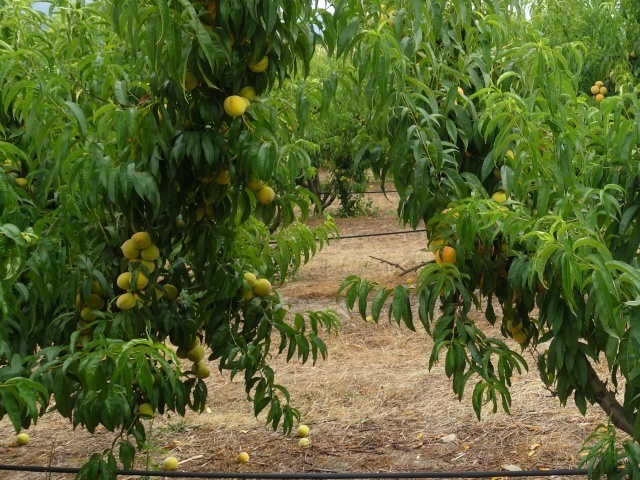peach: (219, 92, 249, 120), (113, 234, 139, 262), (433, 243, 459, 271), (129, 226, 154, 252), (244, 52, 272, 75), (131, 400, 158, 423), (512, 323, 535, 347), (114, 289, 137, 312), (255, 184, 277, 208), (111, 270, 135, 292), (127, 267, 151, 289), (502, 314, 526, 336), (236, 269, 258, 291), (251, 278, 274, 299), (139, 242, 163, 261)
